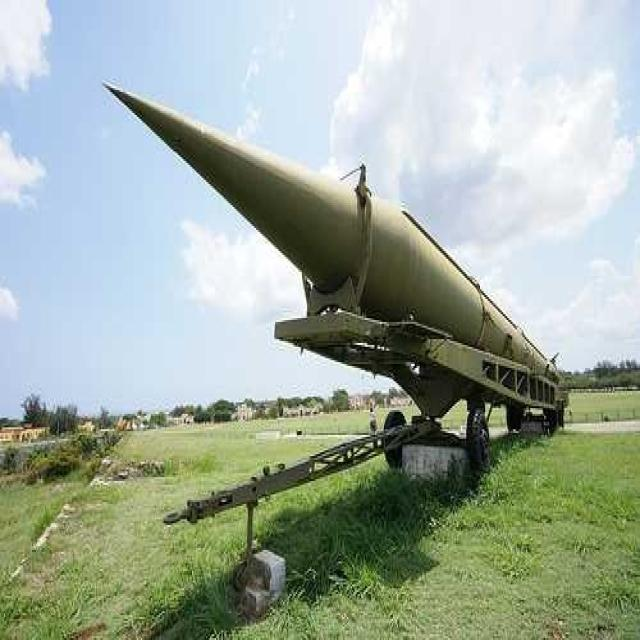missile: (100, 74, 572, 462)
